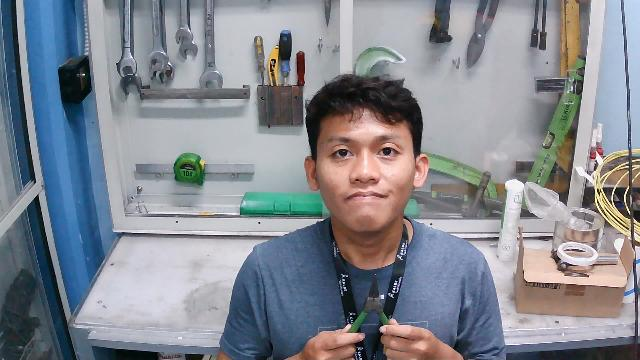tang_cucut_lancip_2: (335, 267, 409, 351)
